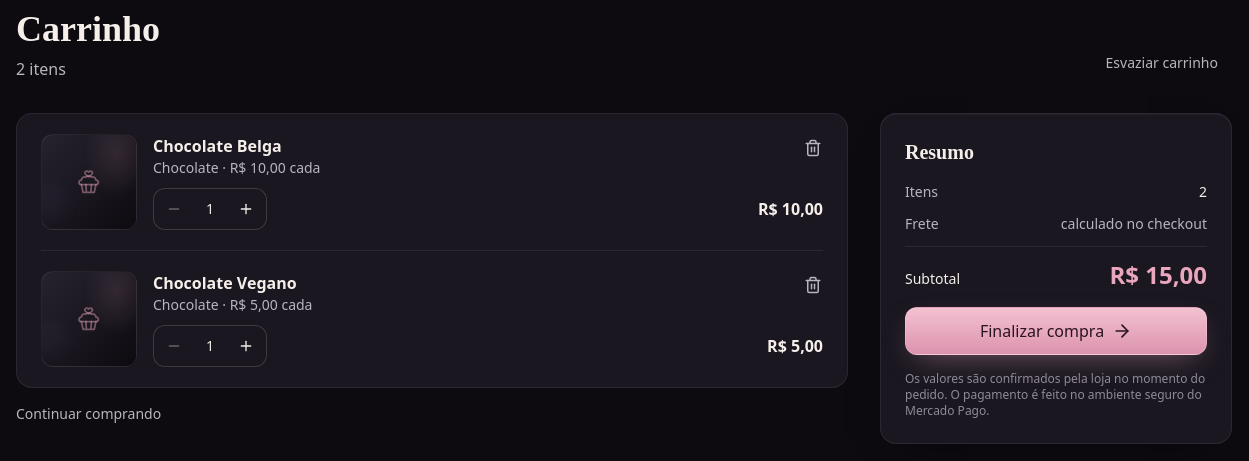
Scenario: CartPage › recalcula ao alterar quantidades e remove itens
Check: the link "Finalizar compra" is shown, box [905, 307, 1207, 355]
What coordinates should you click on to do the following:
click the button named "Aumentar quantidade de Chocolate Belga"
I would click on:
 (246, 209)
Its box is [230, 193, 262, 225].
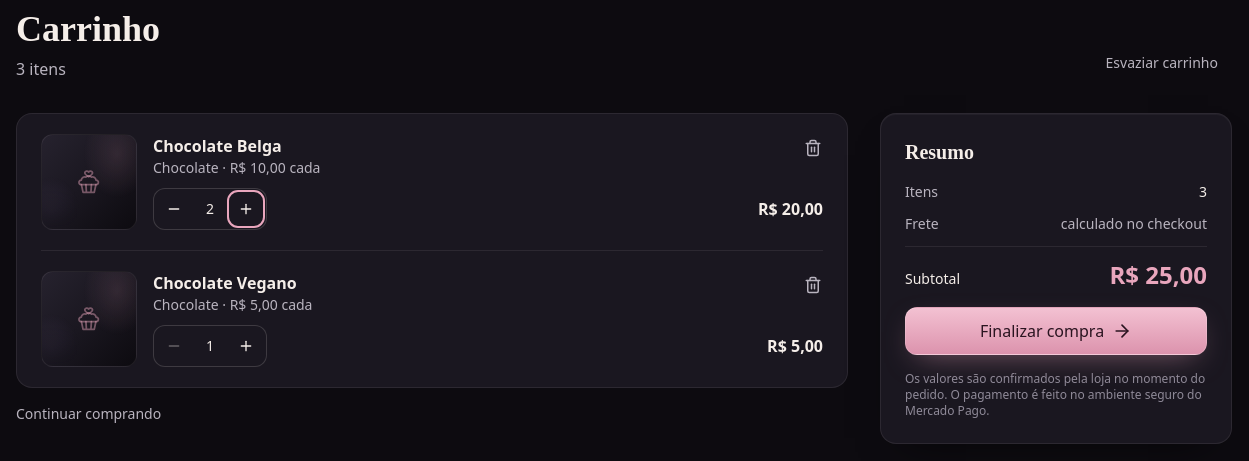
Check: the text "R$ 25,00" is shown, box [1109, 259, 1207, 291]
What coordinates should you click on to do the following:
click the button named "Remover Chocolate Vegano do carrinho"
I would click on:
 (813, 285)
Its box is [795, 267, 831, 303].
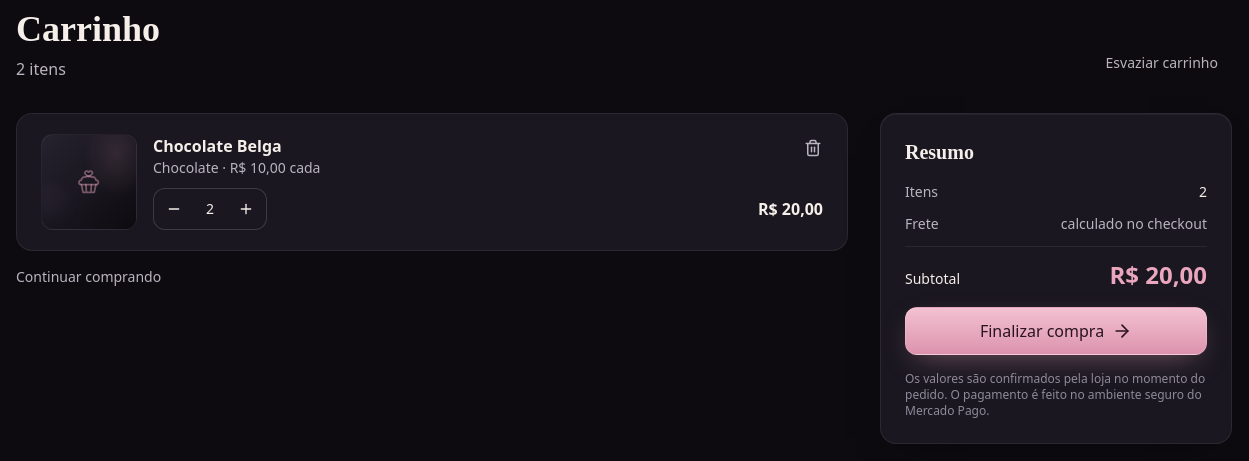
Check: the link "Chocolate Vegano" is gone
Check: the text "R$ 20,00" is shown, box [1109, 259, 1207, 291]
